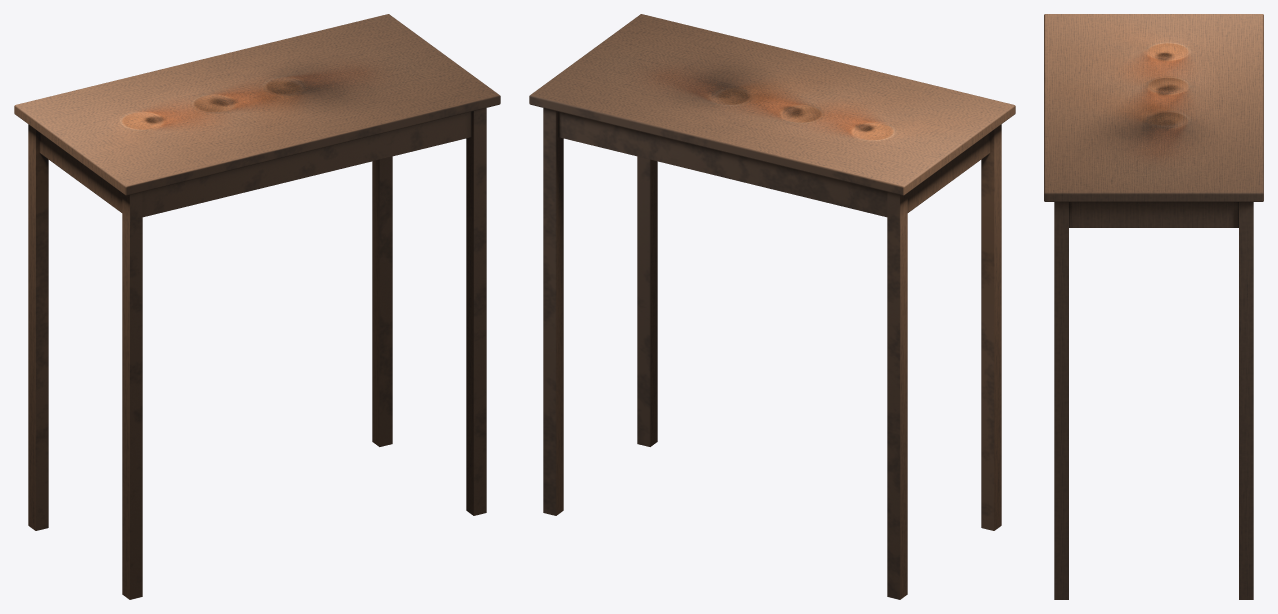
The model's file is 804_jars.glb.
3 views of the same model, side by side, from view 1: azimuth 30°, elevation 25°; view 2: azimuth 150°, elevation 25°; view 3: azimuth 270°, elevation 25° (orthographic).
Parts seen in each view (by area): view 1: Table; view 2: Table; view 3: Table.
Part boxes in pixels (box(x1,y1,x2,y2)): Table: box(14, 14, 500, 599); Table: box(529, 14, 1015, 599); Table: box(1044, 14, 1263, 599).
Size of what is drawn, in the model's own units: 2.9 by 3.1 by 1.5.
1 material, 1 textured.
